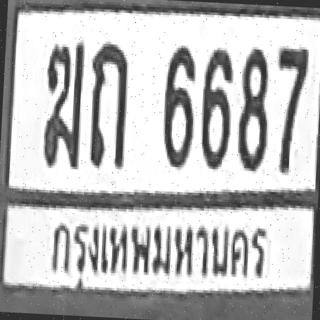A06: (41, 40, 85, 168)
A22: (86, 41, 131, 170)
N06: (160, 44, 198, 169), (198, 48, 234, 168)
N07: (271, 46, 309, 174)
N08: (235, 46, 271, 169)
P04: (44, 206, 277, 299)
